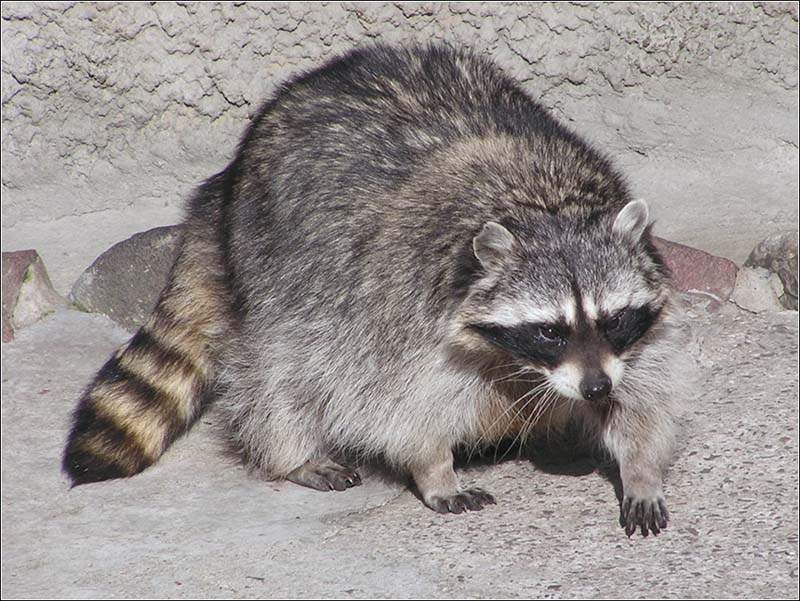raccoon: (57, 38, 698, 548)
